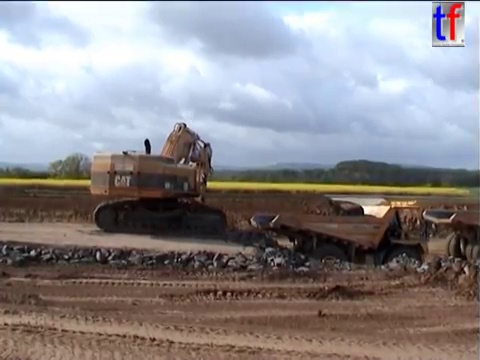excavator: (87, 120, 229, 241)
truck: (247, 199, 438, 290), (420, 206, 480, 274)
